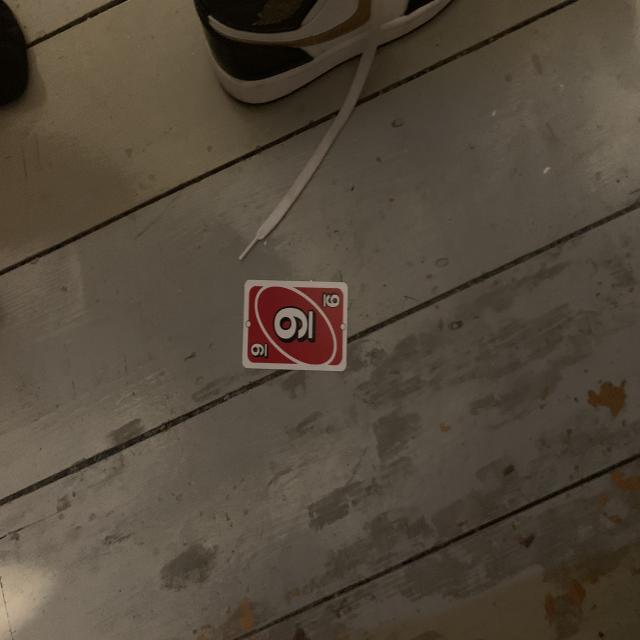lred-9: (246, 340, 271, 364)
